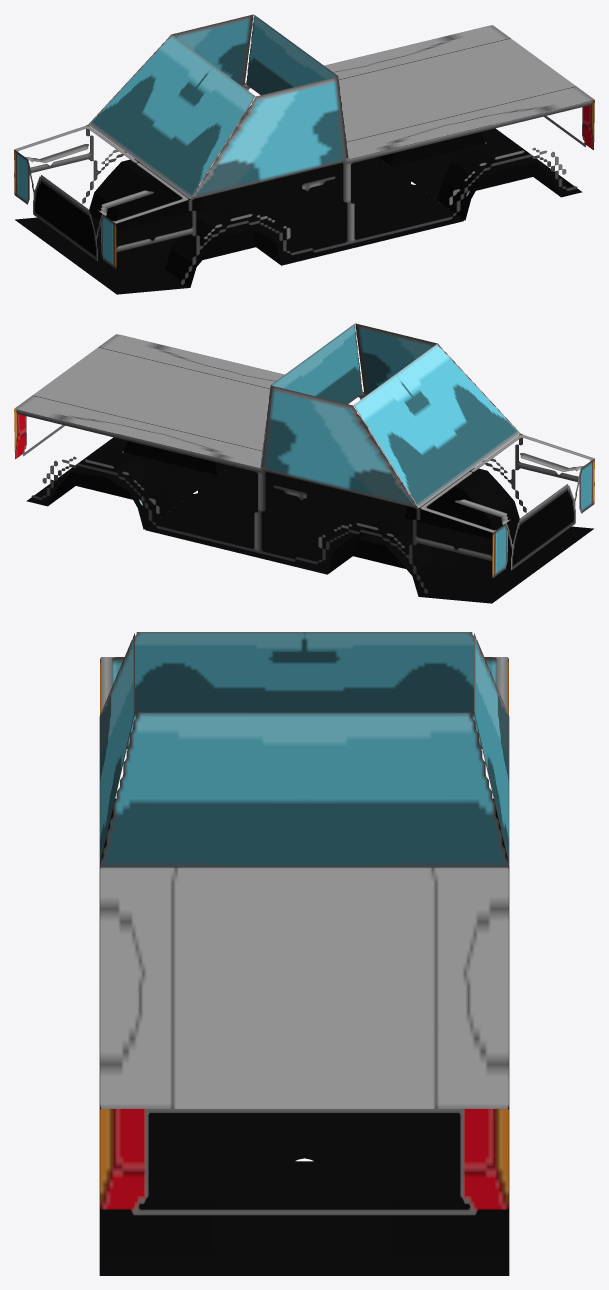
The model's file is trafic cars-truck.fbx.
3 views of the same model, one above another, from view 1: azimuth 30°, elevation 25°; view 2: azimuth 150°, elevation 25°; view 3: azimuth 270°, elevation 25° (orthographic). The views are drawn at different scales.
Visible parts, largest first — view 1: truck; view 2: truck; view 3: truck.
Boxes of the visible parts, <box> form: truck: <box>14,14,594,294</box>; truck: <box>14,323,594,603</box>; truck: <box>99,632,509,1275</box>.
Size of the model in its own units: 358 by 321 by 964.
Materials: 1 (1 with a texture image).
